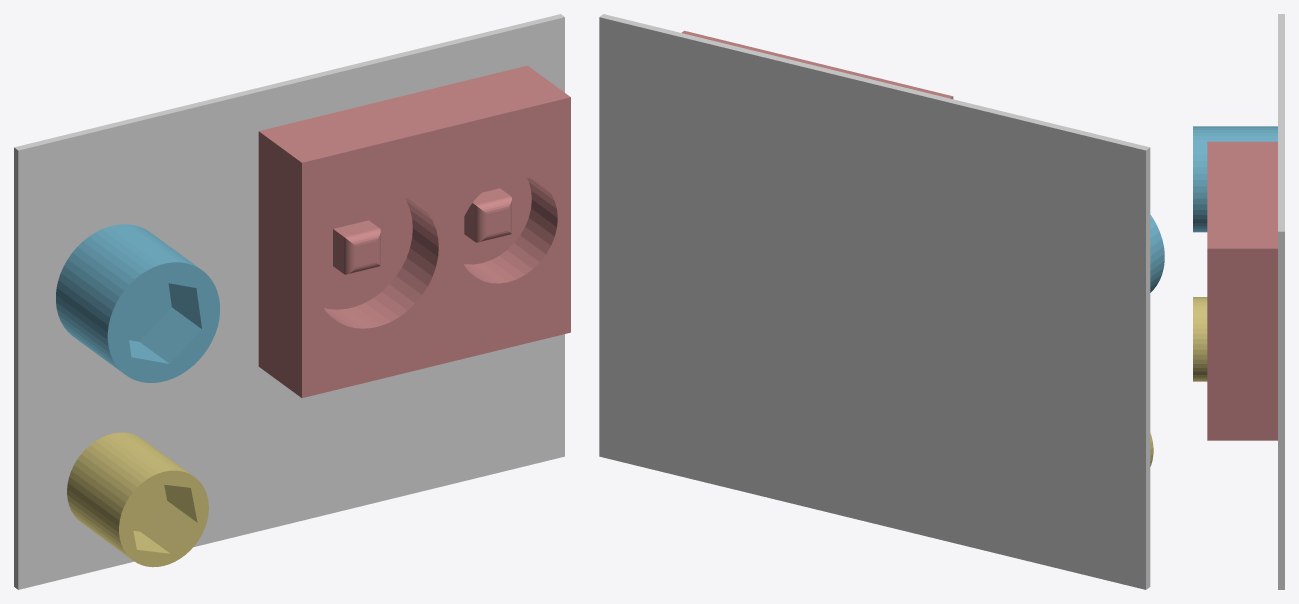
File: pickup_layout.glb
The picture shows the model from 3 angles, left to right: view 1: azimuth 30°, elevation 25°; view 2: azimuth 150°, elevation 25°; view 3: azimuth 270°, elevation 25°; orthographic projection. The views are drawn at different scales.
Visible parts, largest first — view 1: world, 0.obj, 2.obj, 1.obj; view 2: world, 0.obj, 2.obj; view 3: 0.obj, world, 2.obj, 1.obj.
Boxes of the visible parts, x1=… form: world: x1=14, y1=14, x2=564, y2=589; 0.obj: x1=258, y1=65, x2=570, y2=397; 2.obj: x1=56, y1=224, x2=219, y2=382; 1.obj: x1=67, y1=432, x2=208, y2=567; world: x1=599, y1=14, x2=1150, y2=589; 0.obj: x1=681, y1=30, x2=953, y2=98; 2.obj: x1=1150, y1=215, x2=1164, y2=292; 0.obj: x1=1207, y1=141, x2=1277, y2=440; world: x1=1278, y1=14, x2=1284, y2=589; 2.obj: x1=1193, y1=126, x2=1277, y2=232; 1.obj: x1=1193, y1=297, x2=1207, y2=381.
Size of the model in its own units: 14.58 by 11.2 by 2.6.
